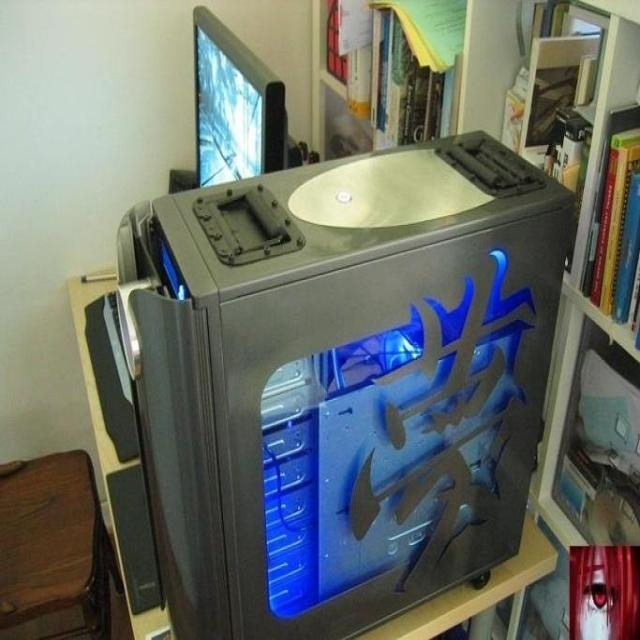E-waste: (64, 3, 546, 628)
